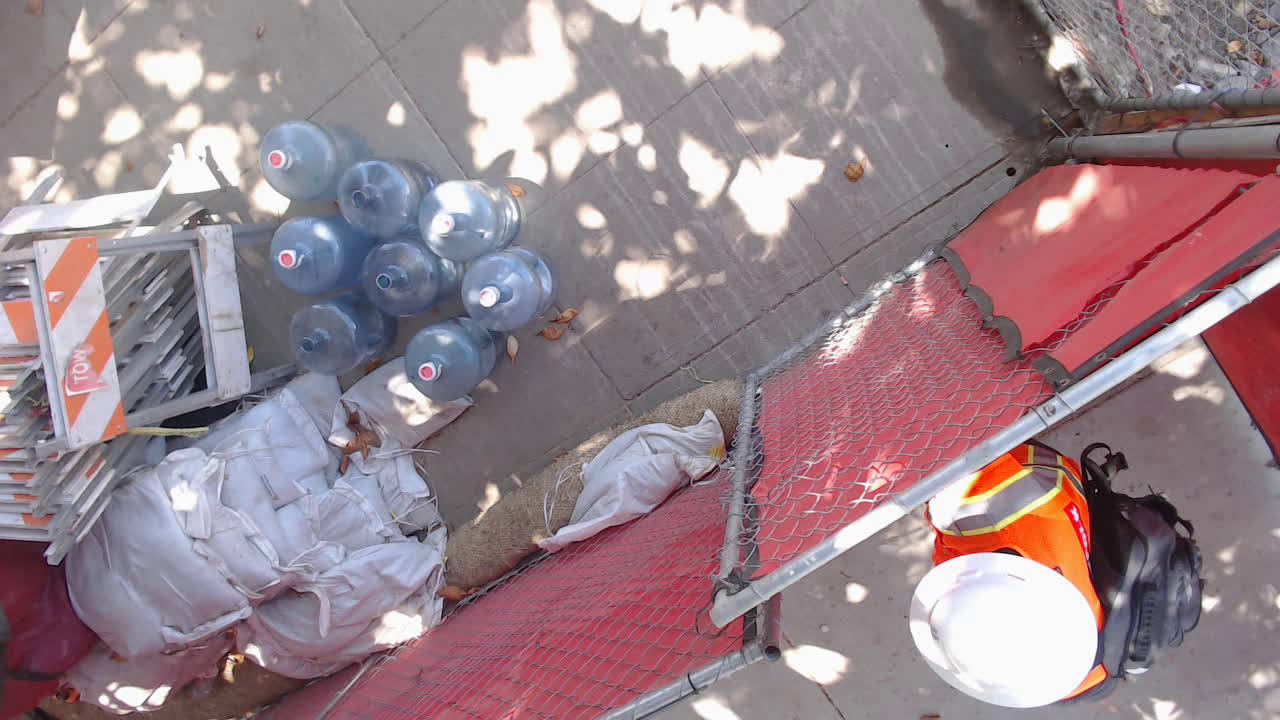hardhat: (905, 549, 1100, 708)
safetyvest: (927, 445, 1109, 703)
